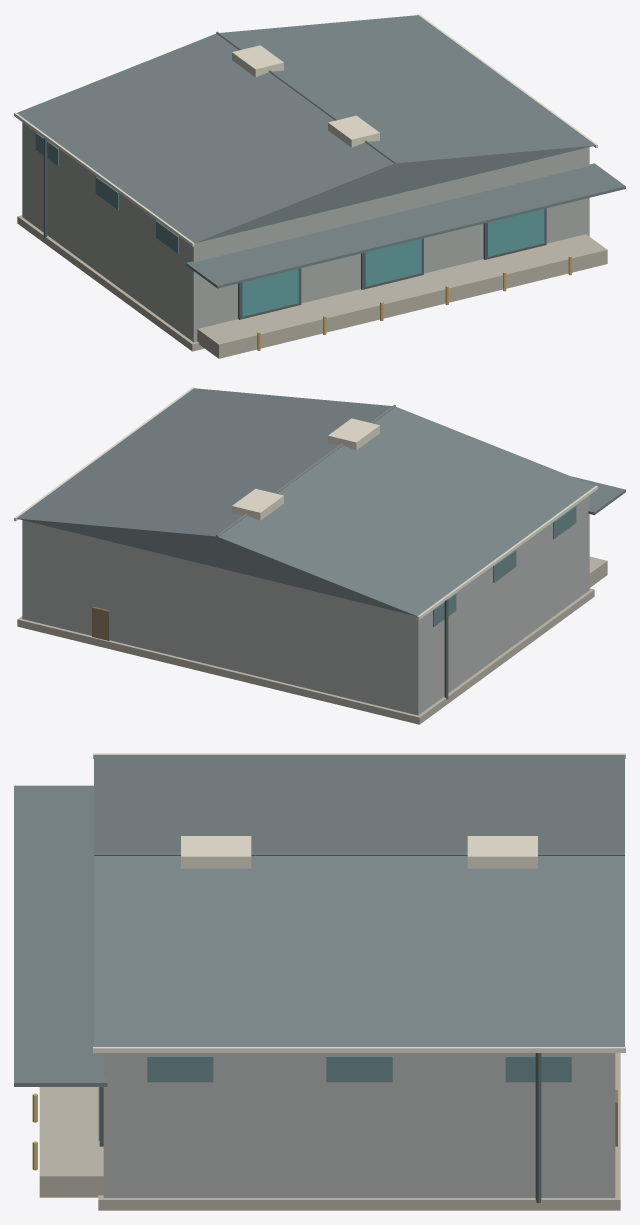
The picture shows the model from 3 angles, top to bottom: view 1: azimuth 30°, elevation 25°; view 2: azimuth 150°, elevation 25°; view 3: azimuth 270°, elevation 25°; orthographic projection. The views are drawn at different scales.
Bounding box in the file's own units: 33 × 11.28 × 28.7.
